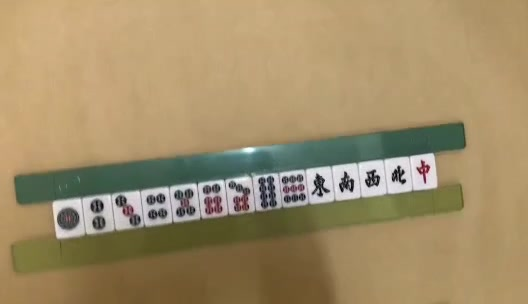1p: (57, 207, 79, 230)
1z: (312, 173, 331, 199)
2p: (90, 200, 107, 230)
2z: (340, 172, 354, 192)
3p: (115, 196, 140, 226)
3z: (364, 169, 381, 188)
4p: (146, 194, 167, 220)
4z: (392, 166, 406, 184)
5p: (175, 189, 196, 217)
6p: (202, 184, 223, 214)
7p: (228, 181, 250, 212)
7z: (418, 160, 431, 184)
8p: (257, 176, 277, 208)
9p: (282, 175, 306, 203)
